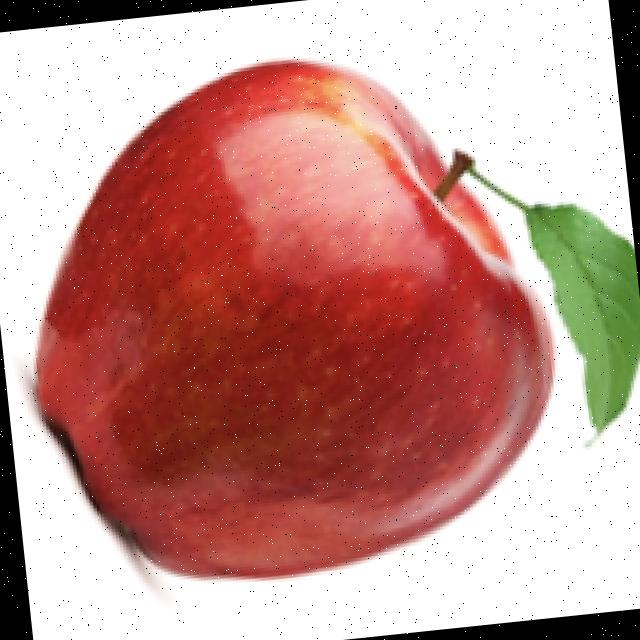apple: (12, 52, 640, 606)
